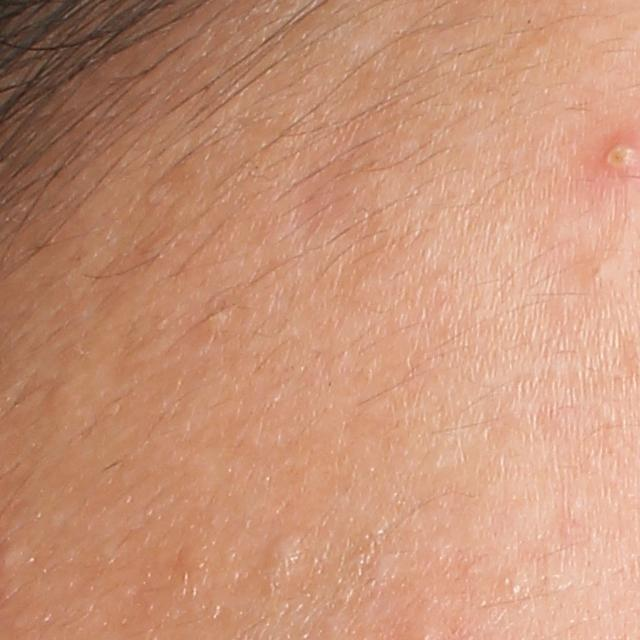comedo: (268, 530, 301, 567), (198, 305, 234, 332)
